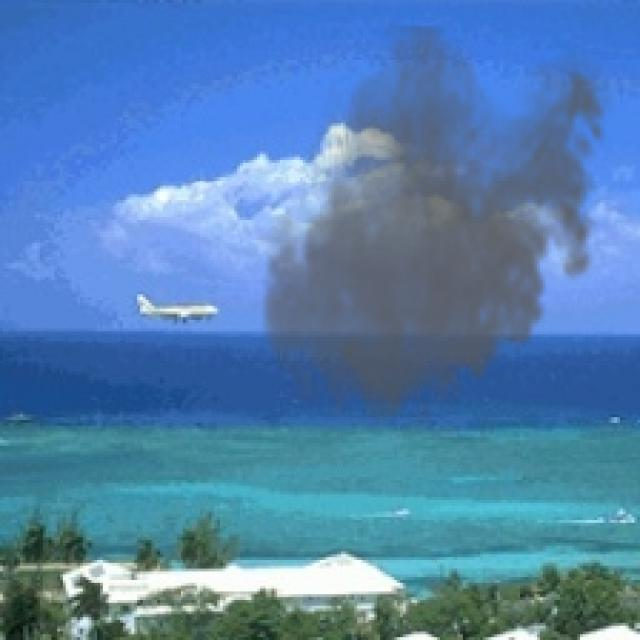smoke: (254, 26, 617, 440)
